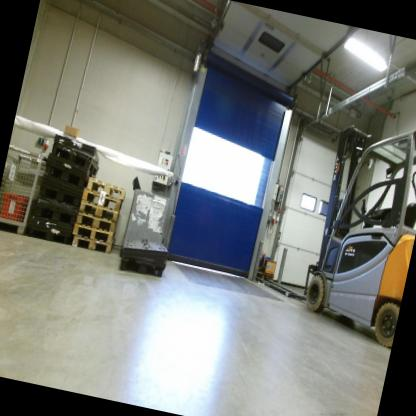forklift: (296, 97, 416, 352)
pallet: (83, 175, 131, 204), (74, 196, 122, 223), (67, 233, 115, 260), (73, 212, 118, 235), (82, 187, 128, 209), (70, 225, 110, 240)
small_load_carrier: (0, 181, 36, 231)
stillage: (0, 139, 57, 236)
